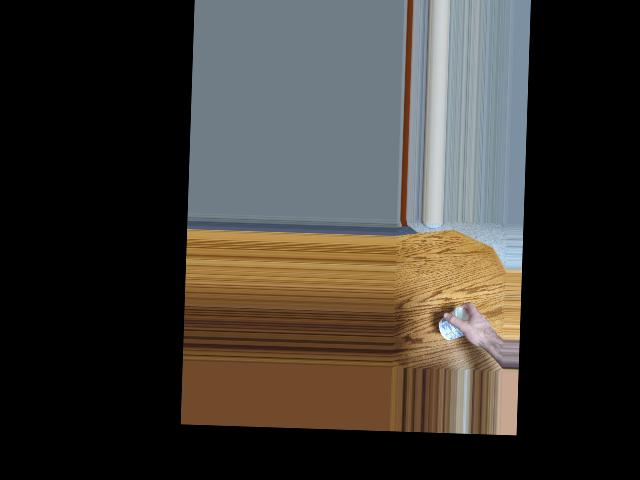cotage: (439, 306, 474, 346)
